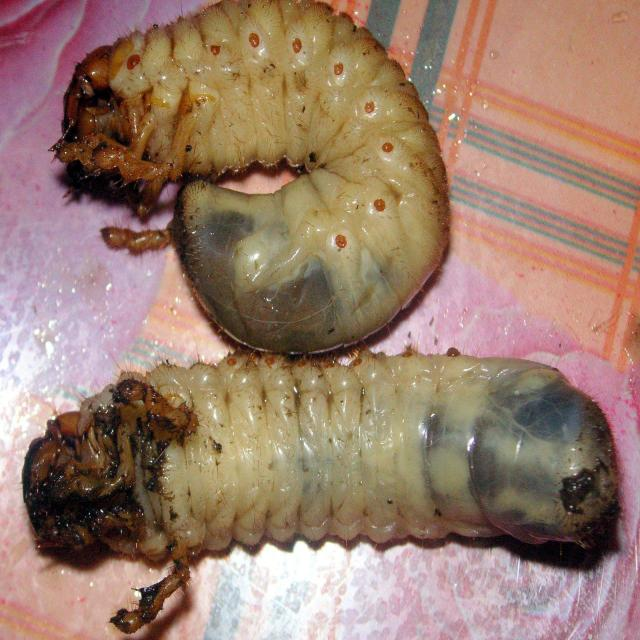Grub-Adult-: (20, 346, 625, 589), (54, 2, 453, 350)
